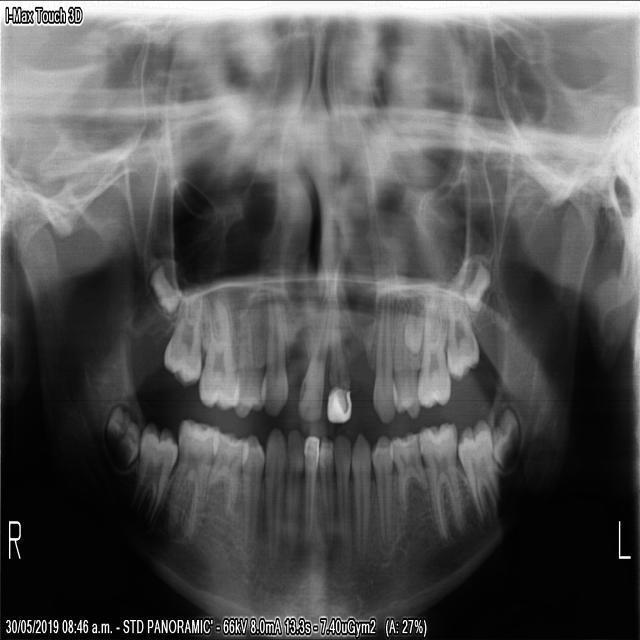LCD: (349, 422, 371, 559)
LCU: (367, 285, 398, 430)
LID: (331, 425, 352, 559), (317, 431, 334, 541)
LIU: (323, 295, 353, 430)
LMD: (417, 412, 464, 546), (456, 414, 504, 527), (487, 402, 521, 467)
LMU: (413, 289, 452, 412), (443, 279, 480, 384), (459, 256, 491, 311)
LPMD: (388, 423, 425, 512), (369, 426, 394, 547)
LPMU: (389, 285, 421, 423)
RCD: (260, 418, 287, 561)
RCU: (258, 282, 289, 418)
RID: (282, 419, 304, 549), (301, 425, 320, 541)
RIU: (292, 287, 332, 424)
RMD: (161, 407, 222, 544), (126, 416, 179, 529), (104, 403, 142, 478)
RMU: (194, 286, 241, 417), (159, 282, 203, 391), (147, 258, 178, 316)
RPMD: (205, 424, 250, 531), (237, 428, 265, 556)
RPMU: (230, 288, 263, 423)
